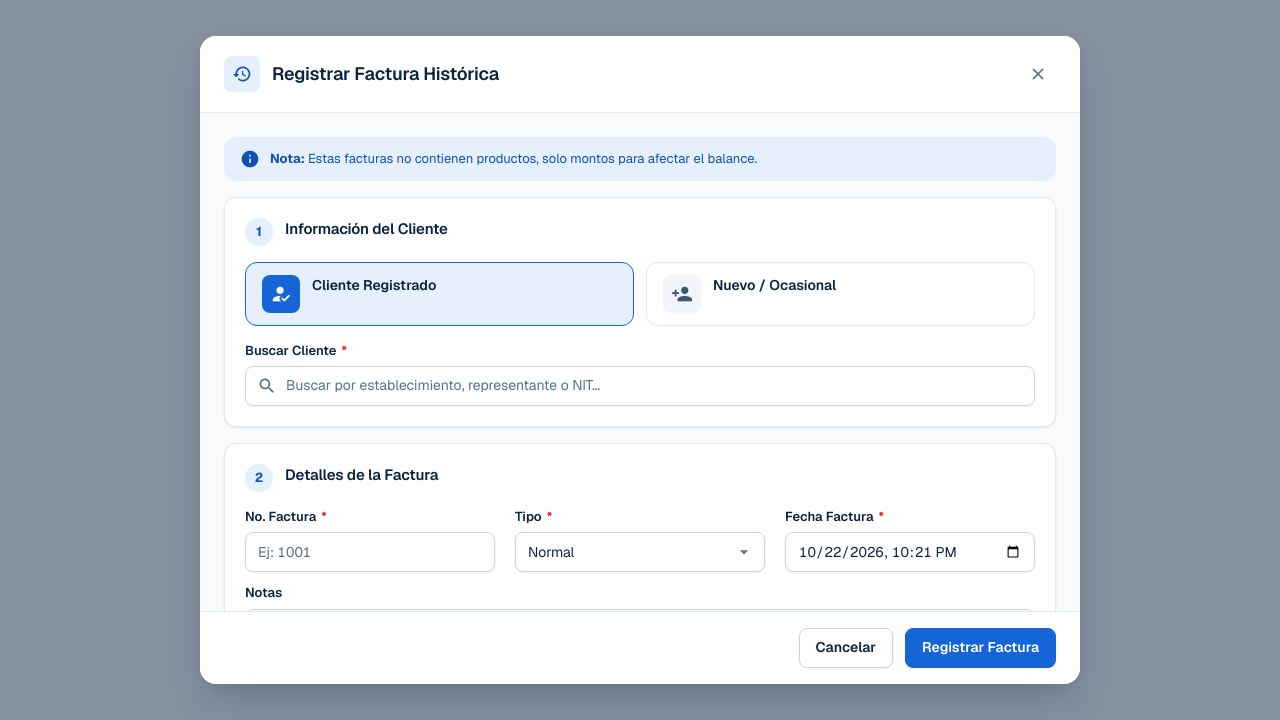
it: factura nueva: buscar el nombre de un eliminado no lo muestra
The width and height of the screenshot is (1280, 720).
Type "Vieja" into the field labelled "Buscar Cliente *".
click(640, 386); type("Vieja")  # box [245,366,1035,406]
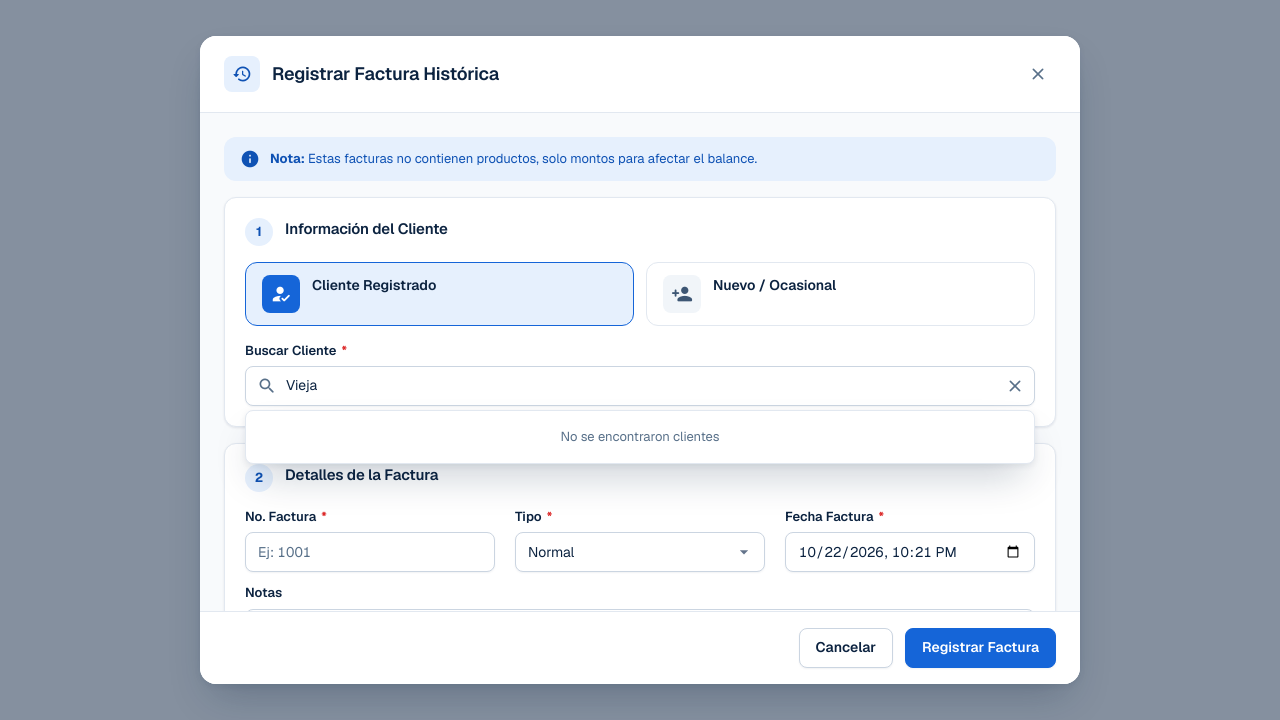
Now the text "No se encontraron clientes" is shown, box [560,428,720,445]
